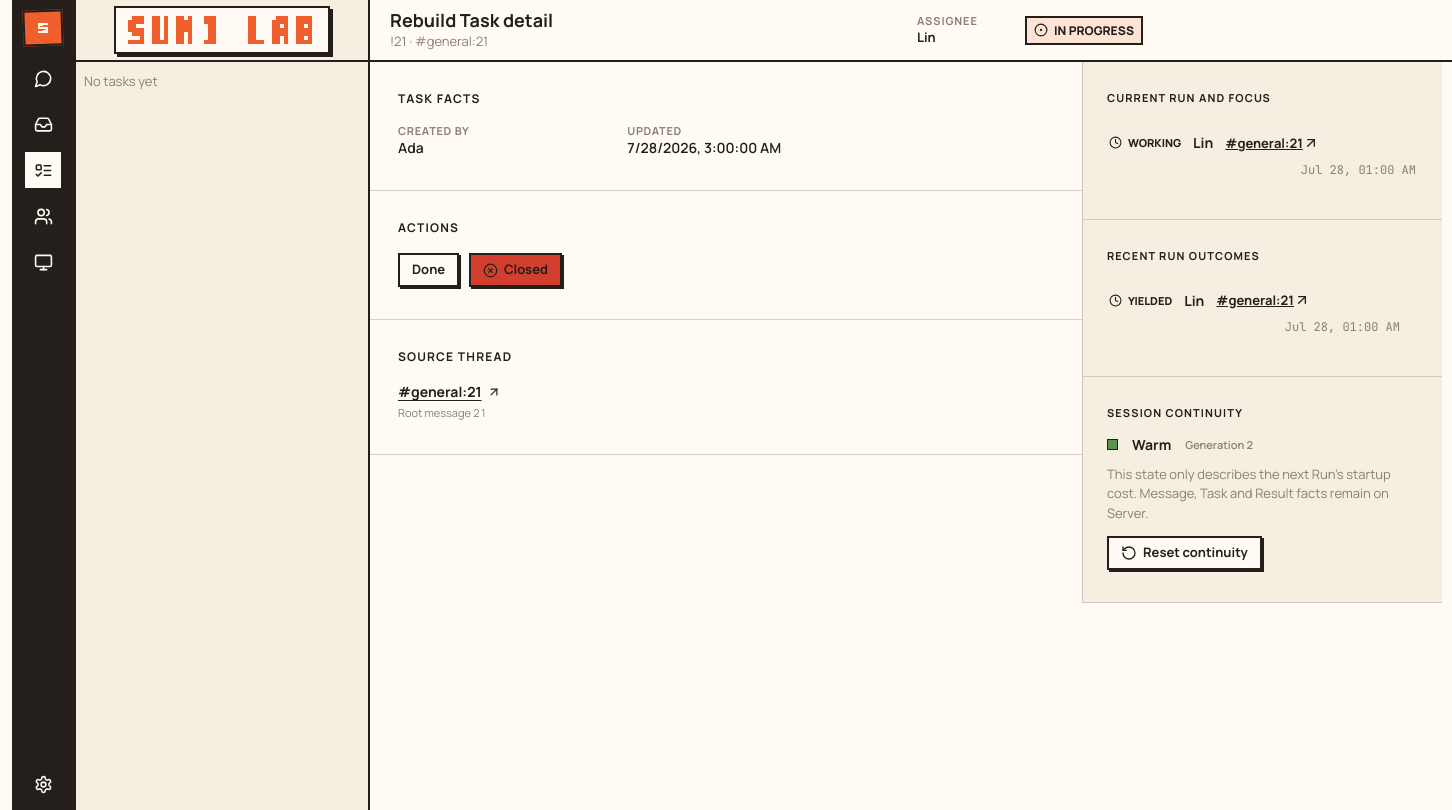
Test: Task work index › shows Source, Related Threads, Run, Result continuity and reset action
Expected: the heading "Rebuild Task detail" is shown, [390,8,553,32]
Expected: the heading "Source Thread" is shown, [398,348,512,365]
Click the button "Reset continuity" at (1184,553), box [1107,536,1262,570]
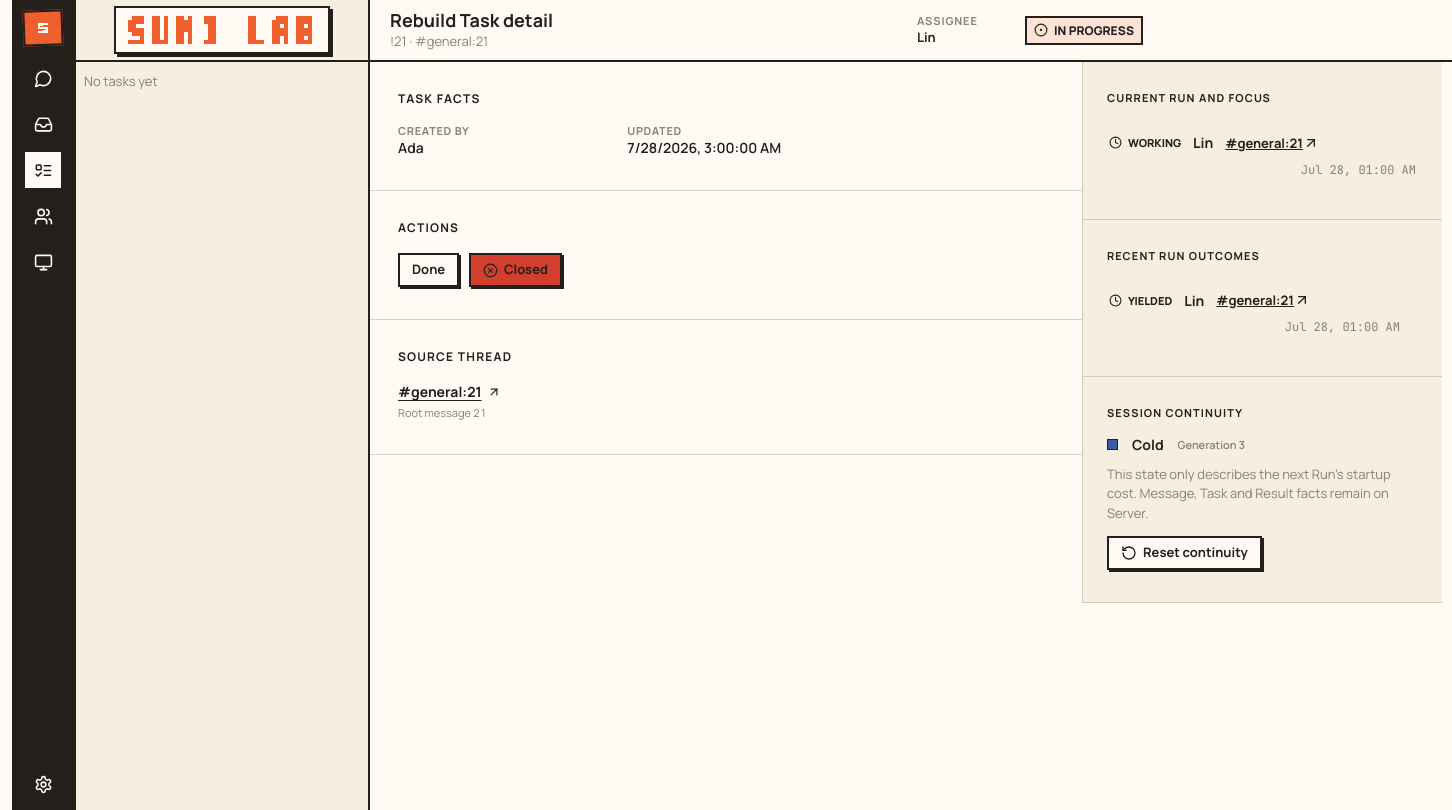
Result: the text "Warm" reads "Cold Generation 3" at [1132,434,1245,454]
